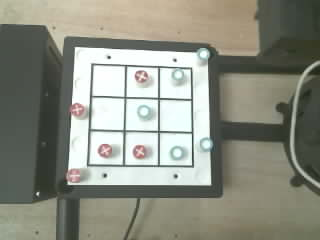blue circle: (137, 105, 151, 119), (200, 137, 213, 152), (170, 146, 184, 159), (172, 68, 184, 83), (197, 48, 210, 60)
board: (67, 47, 212, 185)
cells: (89, 132, 122, 164), (125, 132, 157, 165), (160, 133, 192, 165), (91, 98, 123, 129), (92, 65, 124, 96), (160, 100, 191, 131), (126, 99, 157, 130), (126, 67, 158, 97), (160, 68, 191, 98)
grid: (87, 63, 193, 167)
red cross: (133, 145, 146, 159), (70, 103, 84, 116), (66, 169, 80, 182), (135, 70, 148, 83), (98, 144, 111, 157)
